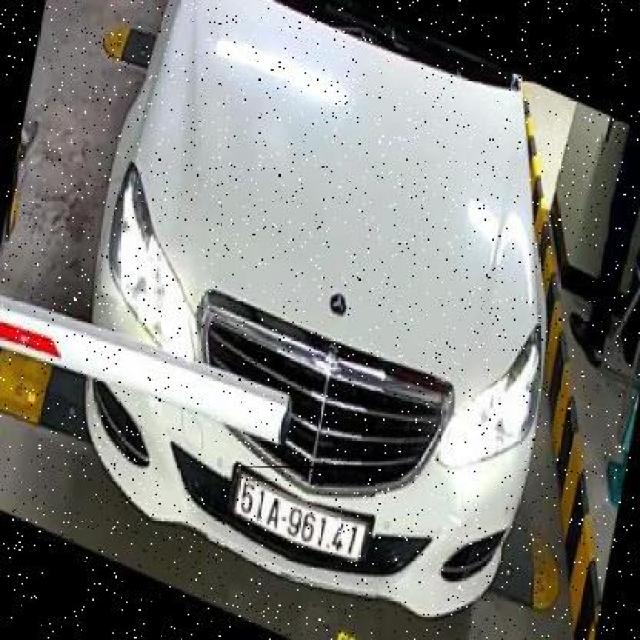number_plate: (224, 467, 376, 568)
